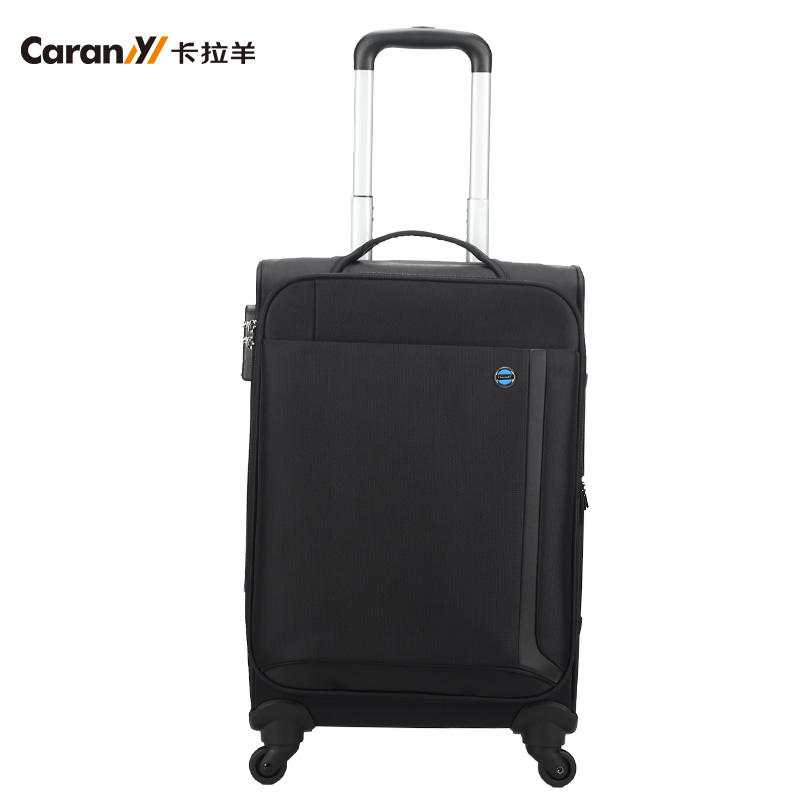luggage: (241, 24, 590, 789)
